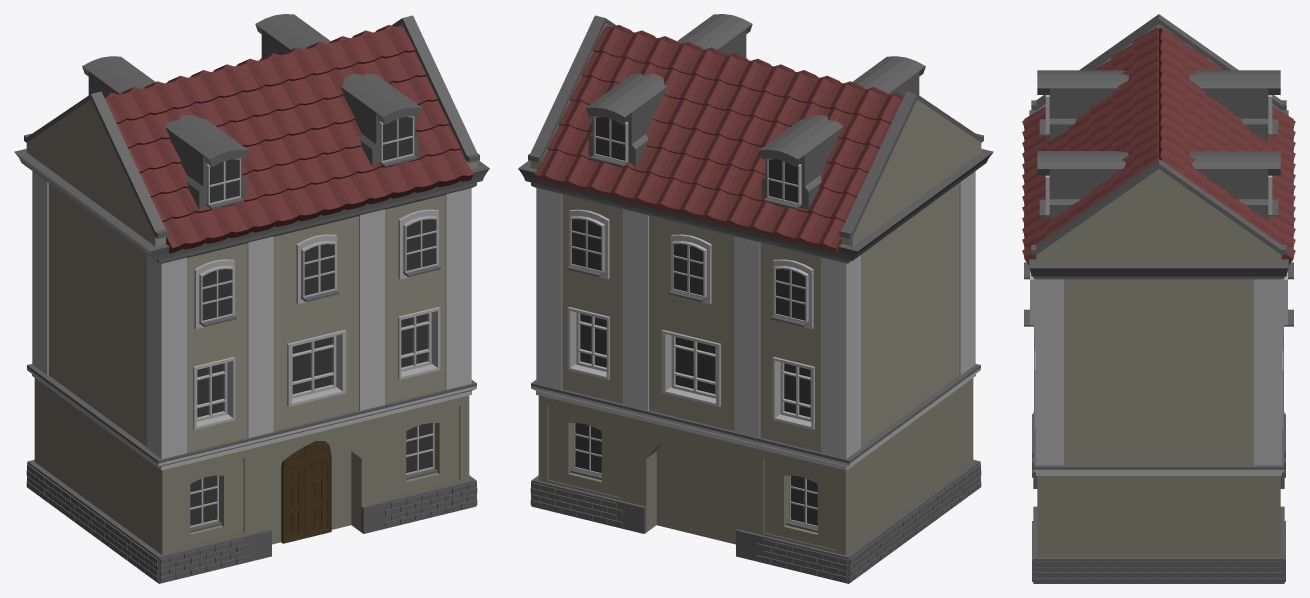
Rendered from Building1_Small.glb.
3 renders of one model, left to right at view 1: azimuth 30°, elevation 25°; view 2: azimuth 150°, elevation 25°; view 3: azimuth 270°, elevation 25°, orthographic. The views are drawn at different scales.
Parts seen in each view (by area): view 1: Building1_Small; view 2: Building1_Small; view 3: Building1_Small.
Part boxes in pixels (<box>): Building1_Small: <box>14,14,489,583</box>; Building1_Small: <box>518,14,993,583</box>; Building1_Small: <box>1022,14,1295,583</box>.
Size of the model in its own units: 3.75 by 4.66 by 2.74.
